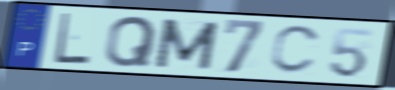5: (328, 26, 376, 79)
7: (222, 17, 266, 76)
C: (268, 24, 324, 77)
L: (53, 11, 92, 66)
M: (152, 17, 222, 72)
Q: (102, 14, 159, 69)
